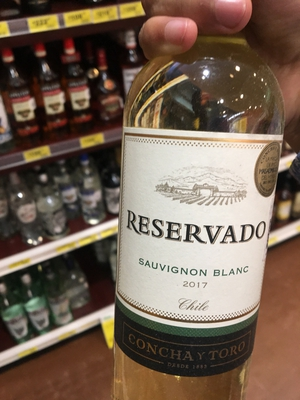reservado sauvignon blanc: (102, 21, 288, 400)
